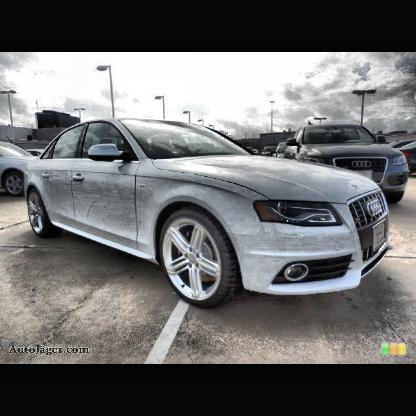Audi S4 Sedan 2012: (25, 118, 395, 310)
